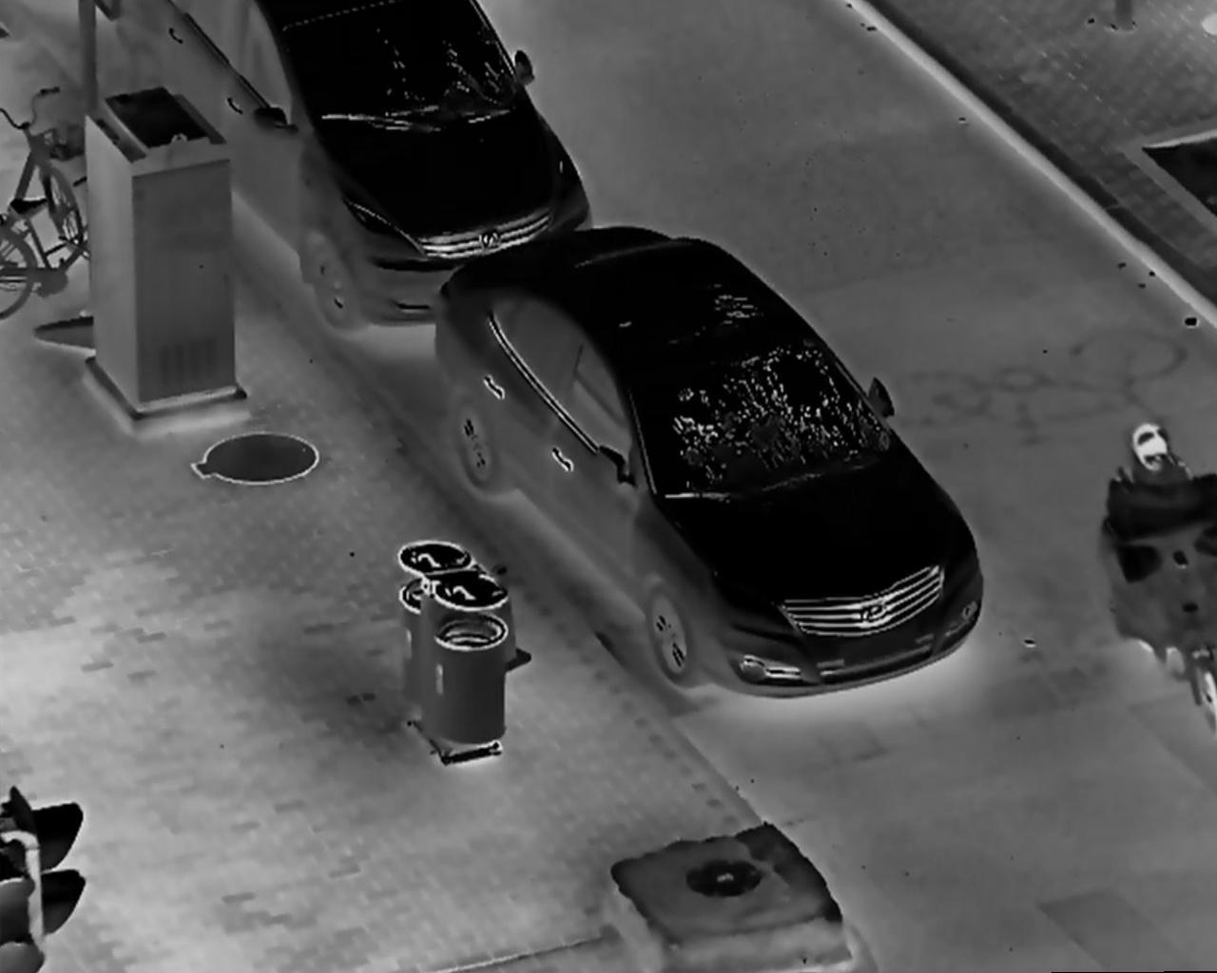person: (1096, 411, 1217, 676)
